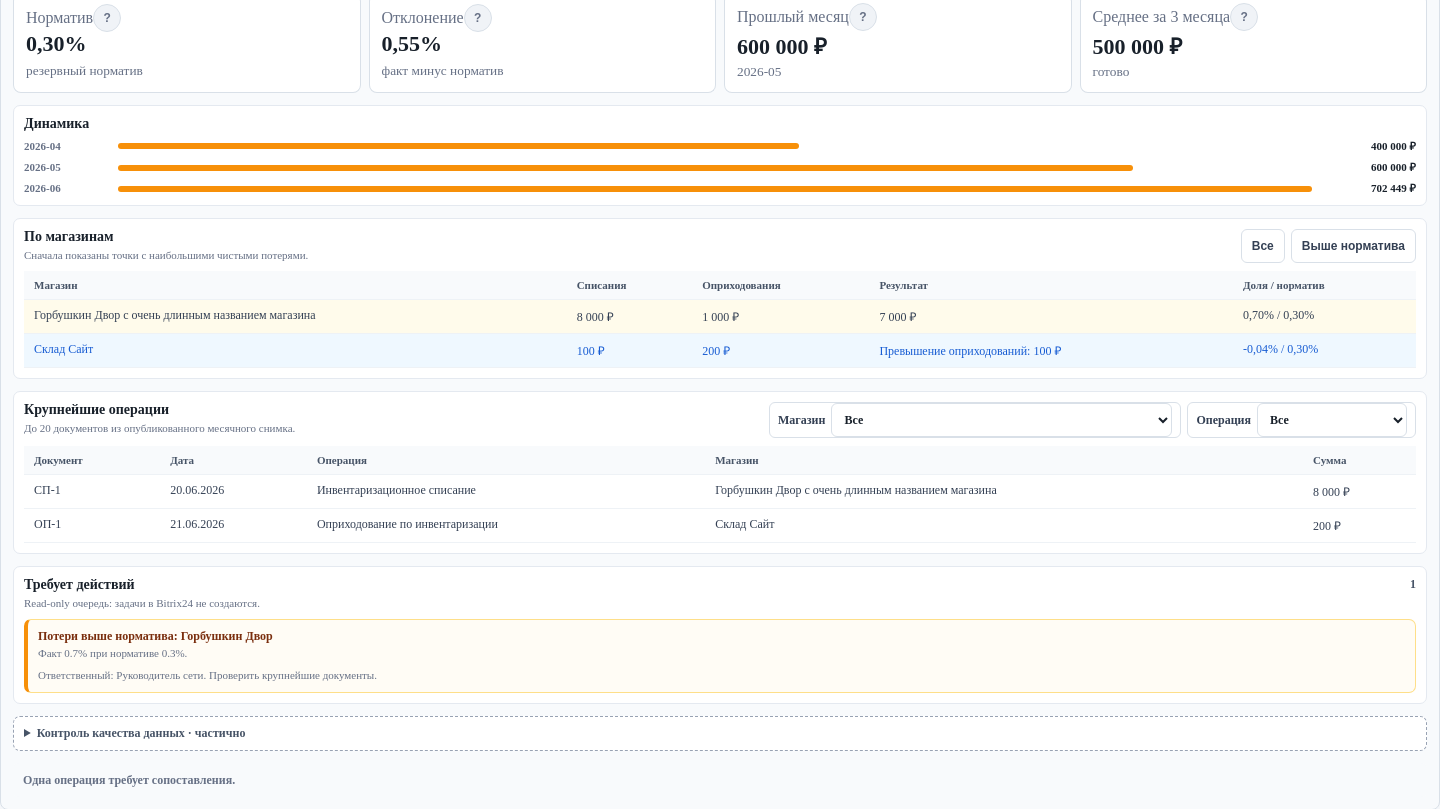
Test: executive inventory loss › shows draft store scope and fallback norm honestly
(page scrolled)
Click the heading "Контроль качества данных · частично" at (141, 733), box [37,726,245,740]
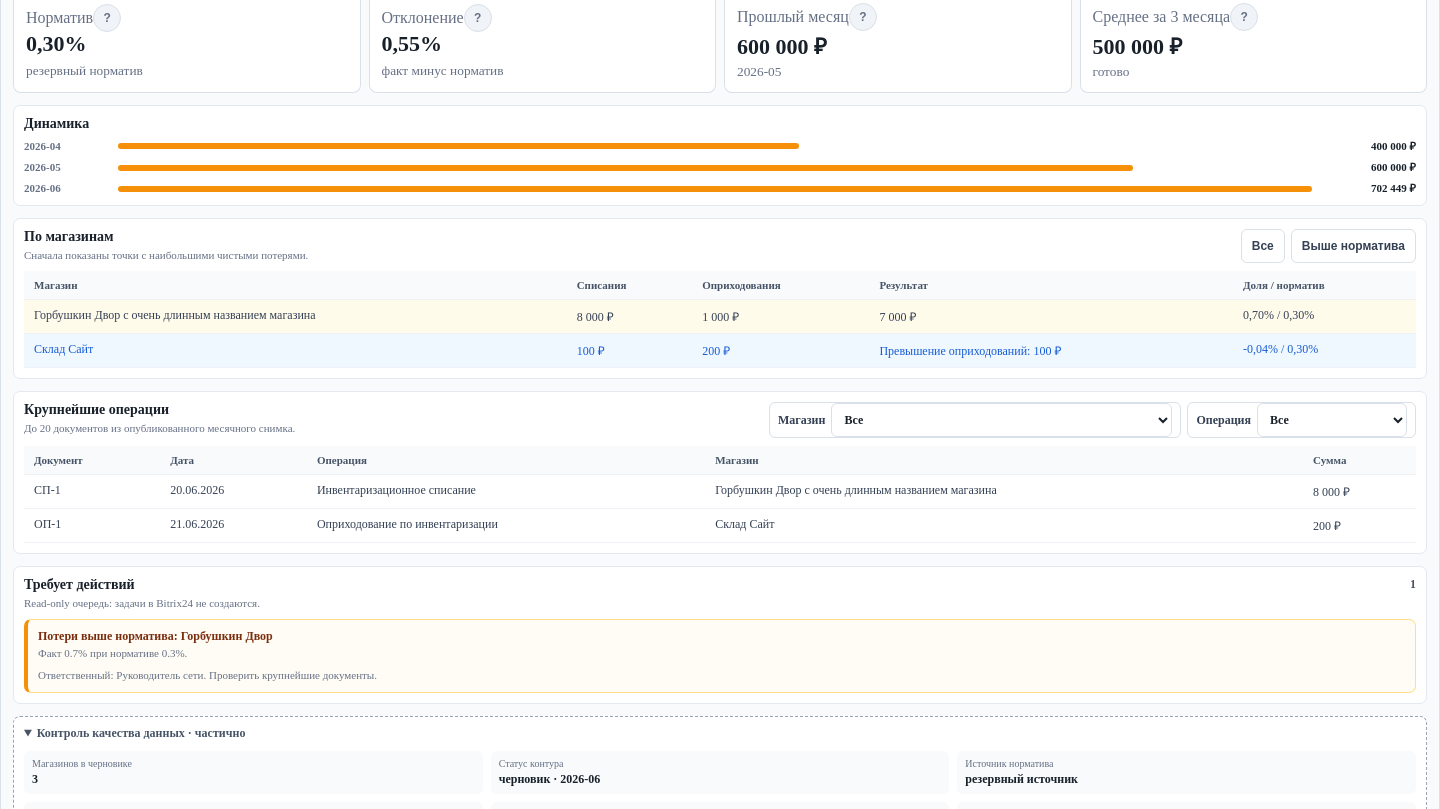
Now the text "Магазинов в черновике" is shown, box [32,758,132,769]
